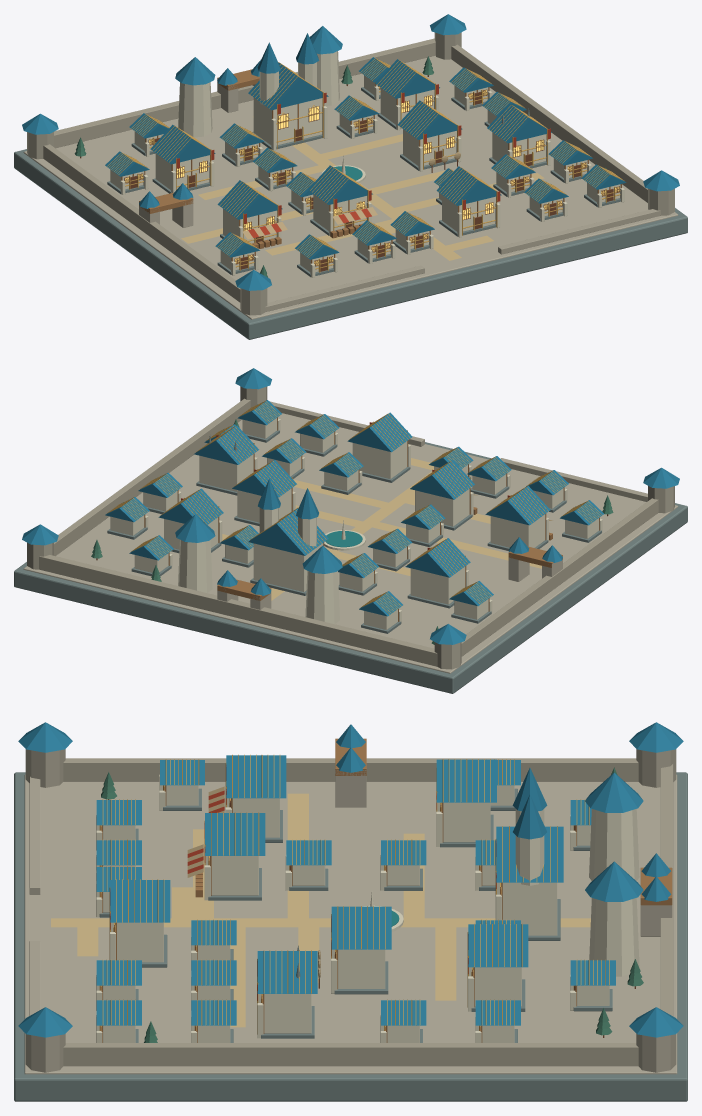
File: dawncrown.glb
The picture shows the model from 3 angles, top to bottom: view 1: azimuth 30°, elevation 25°; view 2: azimuth 150°, elevation 25°; view 3: azimuth 270°, elevation 25°; orthographic projection. The views are drawn at different scales.
Visible parts, largest first — view 1: Terrain foundation geometry, Defensive perimeter geometry, adventurerGuild geometry, Streets and courtyards geometry, Town identity landmarks geometry, itemShop geometry, trainingGround geometry, home geometry, inn geometry, tavern geometry, equipmentShop geometry, bookstore geometry (+19 smaller); view 2: Terrain foundation geometry, Defensive perimeter geometry, Town identity landmarks geometry, adventurerGuild geometry, Streets and courtyards geometry, inn geometry, home geometry, tavern geometry, equipmentShop geometry, itemShop geometry, trainingGround geometry, bookstore geometry (+19 smaller); view 3: Terrain foundation geometry, Defensive perimeter geometry, Streets and courtyards geometry, Town identity landmarks geometry, adventurerGuild geometry, itemShop geometry, trainingGround geometry, equipmentShop geometry, inn geometry, home geometry, bookstore geometry, tavern geometry (+20 smaller).
Boxes of the visible parts, bbox=[...] form: Terrain foundation geometry: bbox=[14, 55, 687, 339]; Defensive perimeter geometry: bbox=[22, 14, 679, 315]; adventurerGuild geometry: bbox=[248, 33, 328, 150]; Streets and courtyards geometry: bbox=[181, 116, 544, 260]; Town identity landmarks geometry: bbox=[175, 26, 365, 182]; itemShop geometry: bbox=[308, 165, 377, 238]; trainingGround geometry: bbox=[397, 100, 462, 172]; home geometry: bbox=[436, 166, 501, 237]; inn geometry: bbox=[150, 124, 215, 193]; tavern geometry: bbox=[217, 180, 287, 248]; equipmentShop geometry: bbox=[487, 103, 551, 168]; bookstore geometry: bbox=[375, 59, 439, 130]; Terrain foundation geometry: bbox=[14, 413, 687, 693]; Defensive perimeter geometry: bbox=[22, 368, 679, 669]; Town identity landmarks geometry: bbox=[175, 514, 365, 624]; adventurerGuild geometry: bbox=[248, 478, 328, 595]; Streets and courtyards geometry: bbox=[222, 458, 541, 600]; inn geometry: bbox=[405, 538, 470, 608]; home geometry: bbox=[347, 412, 412, 482]; tavern geometry: bbox=[485, 485, 552, 550]; equipmentShop geometry: bbox=[194, 425, 258, 495]; itemShop geometry: bbox=[410, 460, 477, 530]; trainingGround geometry: bbox=[232, 460, 296, 526]; bookstore geometry: bbox=[158, 488, 223, 553]; Terrain foundation geometry: bbox=[14, 772, 687, 1101]; Defensive perimeter geometry: bbox=[18, 722, 683, 1072]; Streets and courtyards geometry: bbox=[51, 793, 590, 1027]; Town identity landmarks geometry: bbox=[362, 772, 643, 976]; adventurerGuild geometry: bbox=[495, 768, 563, 940]; itemShop geometry: bbox=[187, 812, 265, 900]; trainingGround geometry: bbox=[318, 906, 391, 994]; equipmentShop geometry: bbox=[257, 945, 317, 1038]; inn geometry: bbox=[436, 759, 496, 847]; home geometry: bbox=[109, 879, 170, 967]; bookstore geometry: bbox=[467, 923, 528, 1011]; tavern geometry: bbox=[208, 754, 286, 842].
Bounding box in the file's own units: 69.2 × 17.65 × 64.
